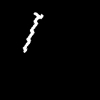half_double_crochet: (23, 13, 42, 51)
